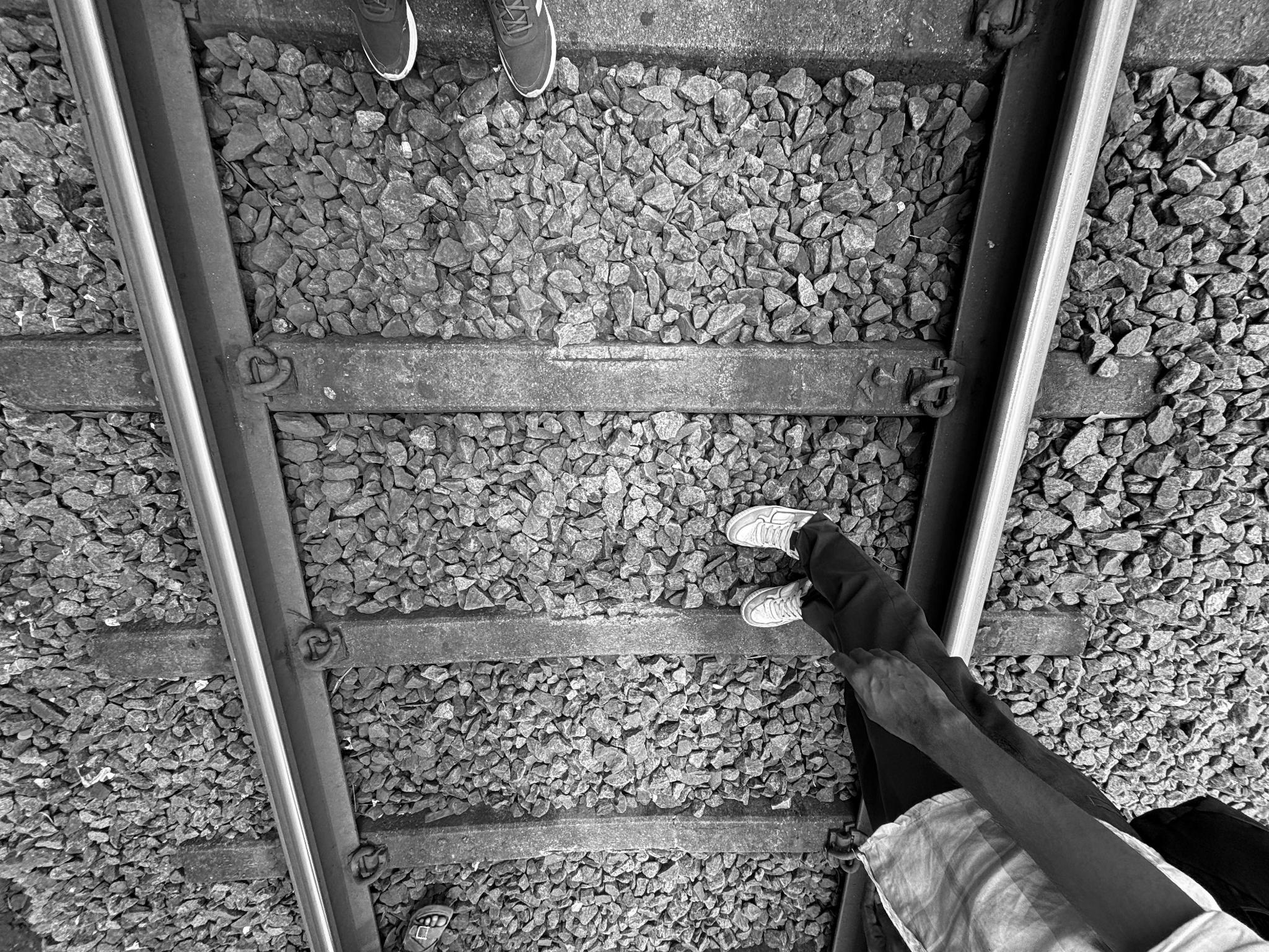cracks in midportion: (509, 343, 727, 384)
